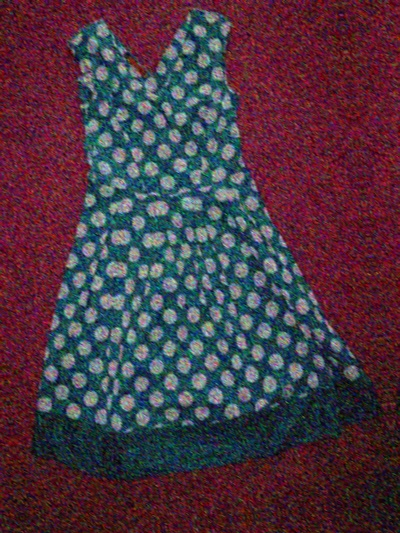Dress: (0, 0, 383, 514), (349, 0, 400, 468), (0, 10, 14, 533), (36, 530, 400, 533)
